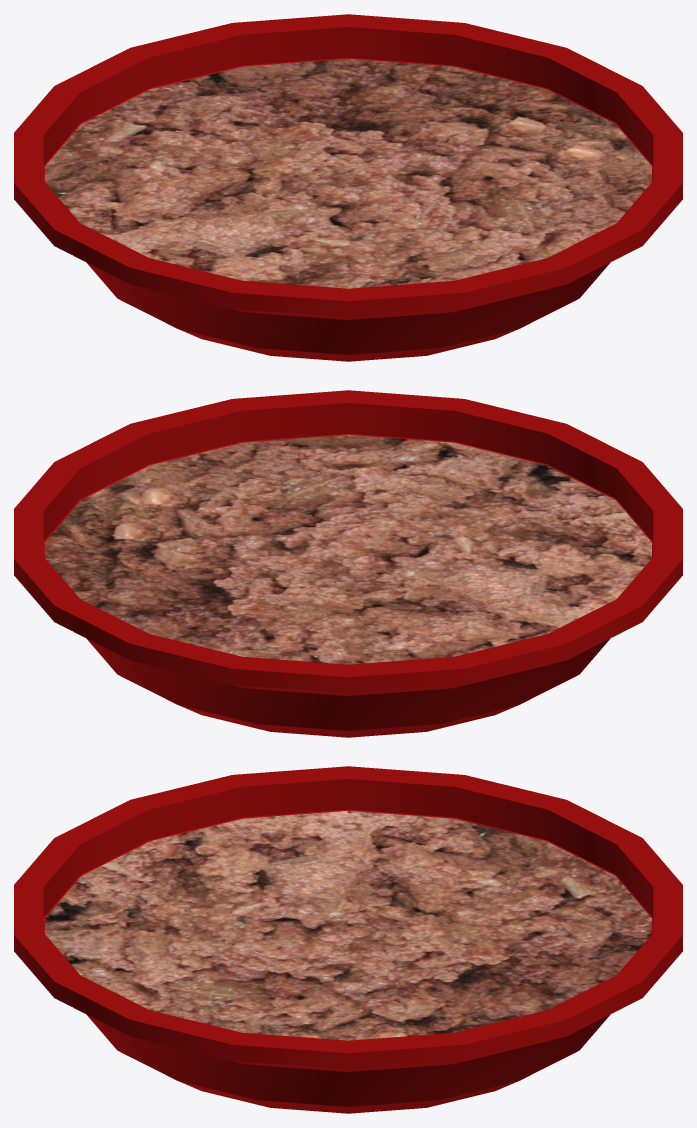
File: Feeder.FBX
The picture shows the model from 3 angles, top to bottom: view 1: azimuth 30°, elevation 25°; view 2: azimuth 150°, elevation 25°; view 3: azimuth 270°, elevation 25°; orthographic projection.
Visible parts, largest first — view 1: feeder; view 2: feeder; view 3: feeder.
Part boxes in pixels (x1,y1,x2,y2): feeder: (14,14,682,361); feeder: (14,390,682,737); feeder: (14,766,682,1113).
Size of the model in its own units: 25.68 by 4.48 by 25.29.
